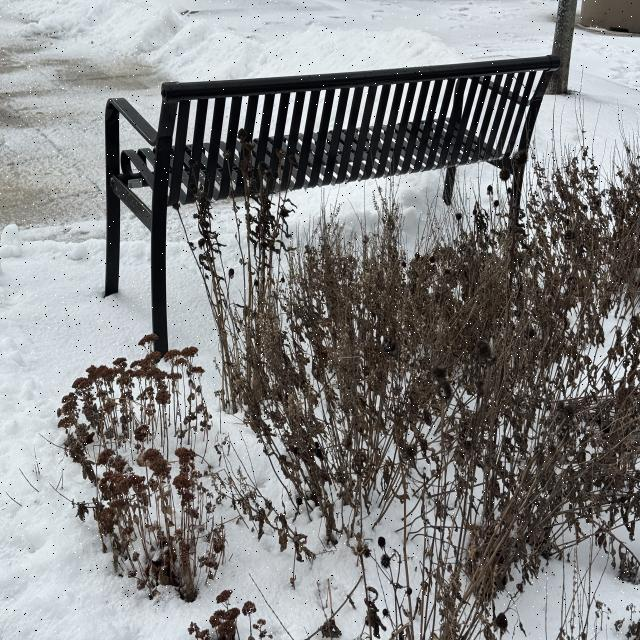Bench: (95, 46, 560, 360)
